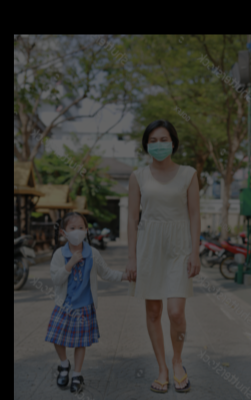with_mask: (146, 136, 171, 160), (64, 224, 86, 245)
